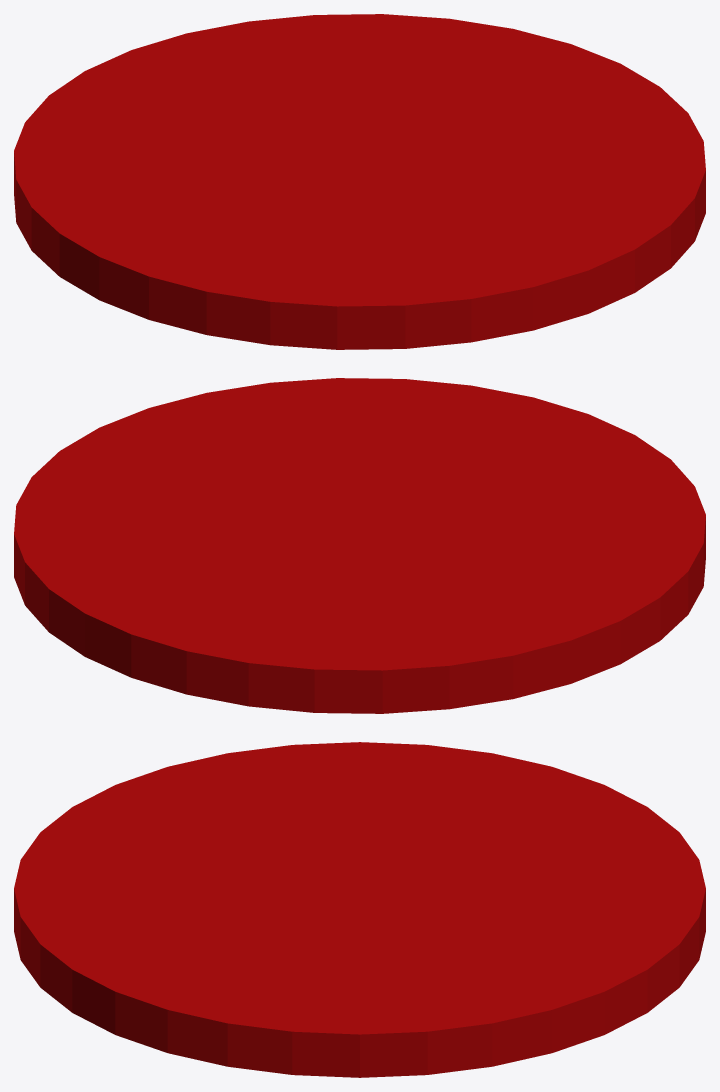
Rendered from redcoin.fbx.
The picture shows the model from 3 angles, top to bottom: view 1: azimuth 30°, elevation 25°; view 2: azimuth 150°, elevation 25°; view 3: azimuth 270°, elevation 25°; orthographic projection.
Parts seen in each view (by area): view 1: Circle; view 2: Circle; view 3: Circle.
Boxes of the visible parts, x1,y1,x2,y2 form: Circle: [14, 14, 705, 349]; Circle: [14, 378, 705, 713]; Circle: [14, 742, 705, 1077].
Bounding box in the file's own units: 200 × 13.82 × 200.
